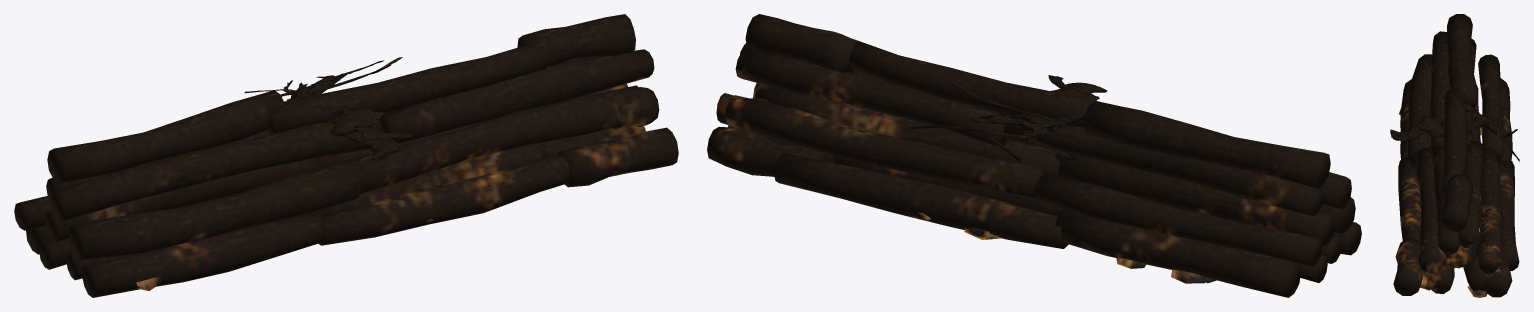
Rendered from base_P1_santjoan.glb.
3 renders of one model, left to right at view 1: azimuth 30°, elevation 25°; view 2: azimuth 150°, elevation 25°; view 3: azimuth 270°, elevation 25°, orthographic. The views are drawn at different scales.
Parts seen in each view (by area): view 1: base_P1_santjoan; view 2: base_P1_santjoan; view 3: base_P1_santjoan.
Part boxes in pixels (x1,y1,x2,y2): base_P1_santjoan: [14, 14, 678, 297]; base_P1_santjoan: [707, 14, 1361, 297]; base_P1_santjoan: [1390, 14, 1519, 297].
Size of the model in its own units: 2.64 by 0.5835 by 0.7131.
Materials: 1 (1 with a texture image).
